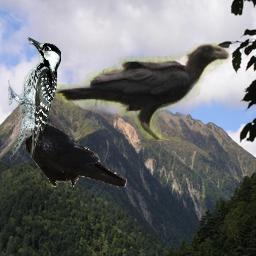Crow: (55, 43, 231, 141), (21, 110, 127, 187)
Woodpecker: (8, 36, 61, 158)
